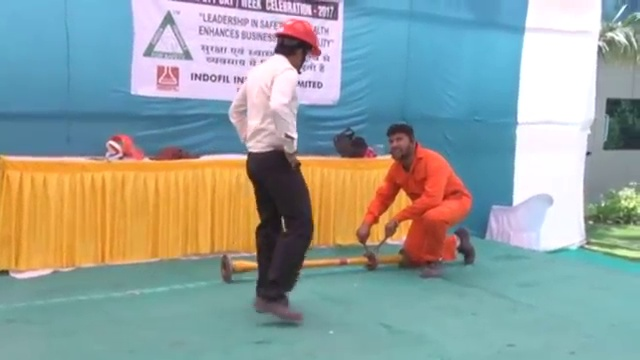helmet: (276, 18, 324, 55)
helmet_off: (385, 123, 417, 164)
helmet_on: (271, 15, 323, 74)
person: (225, 15, 325, 320), (353, 122, 474, 273)
